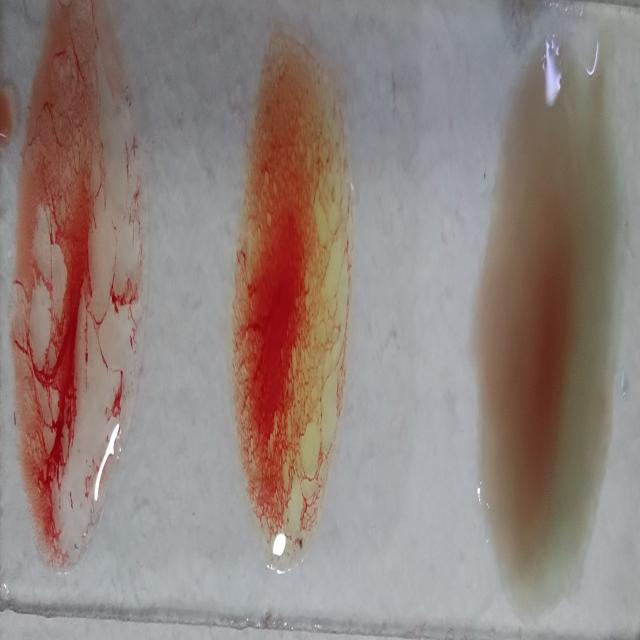B: (232, 28, 352, 564)
D: (14, 0, 145, 577)
